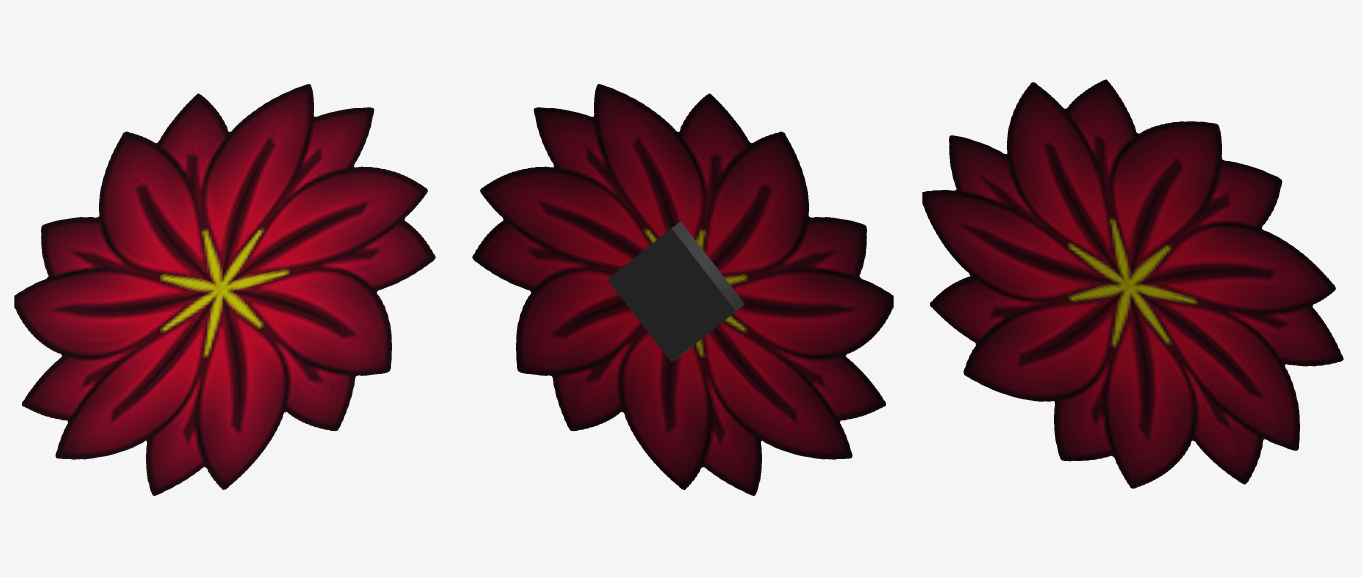
File: Magnet_H.FBX
The picture shows the model from 3 angles, left to right: view 1: azimuth 30°, elevation 25°; view 2: azimuth 150°, elevation 25°; view 3: azimuth 330°, elevation 25°; orthographic projection.
Visible parts, largest first — view 1: Fridge_Magnet; view 2: Fridge_Magnet; view 3: Fridge_Magnet.
Part boxes in pixels (<box>): Fridge_Magnet: <box>14,84,435,495</box>; Fridge_Magnet: <box>472,84,893,495</box>; Fridge_Magnet: <box>922,79,1343,488</box>.
Bounding box in the file's own units: 25 × 25 × 0.9737.
